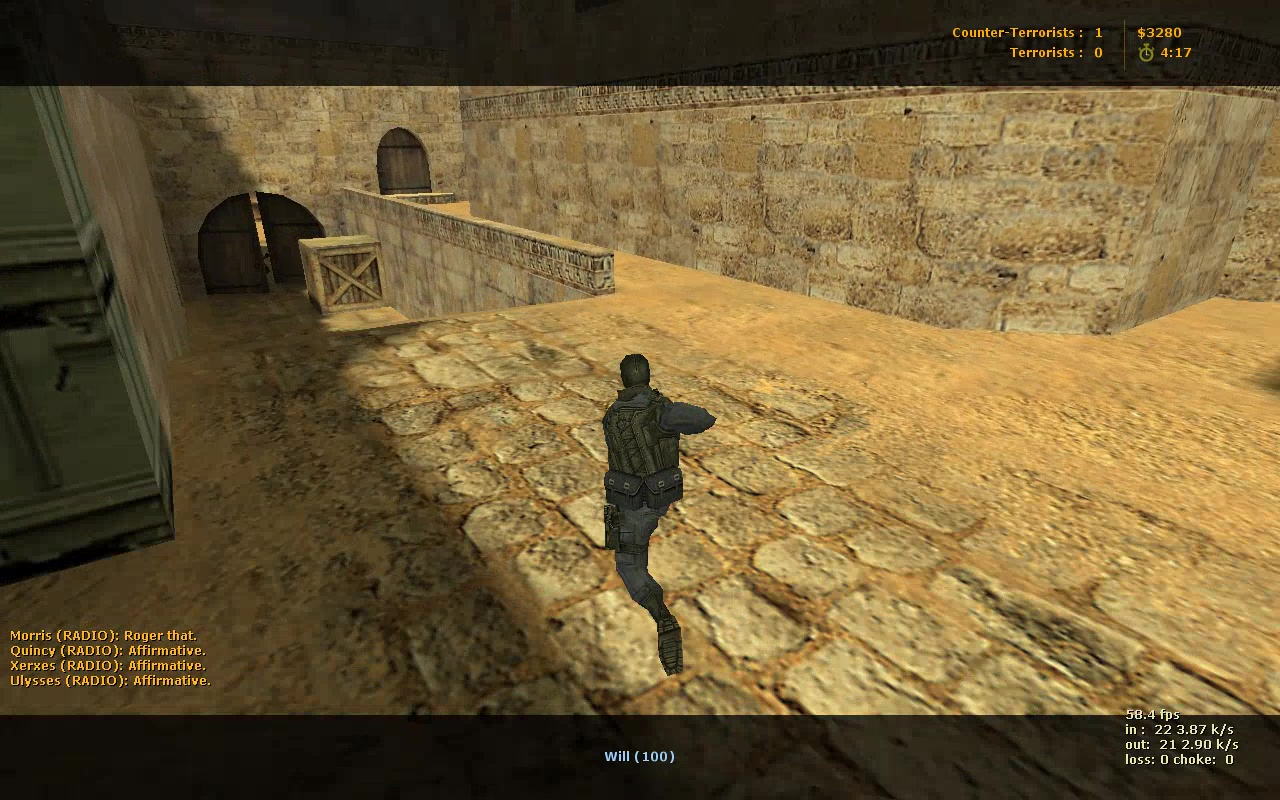ct: (605, 353, 718, 672)
